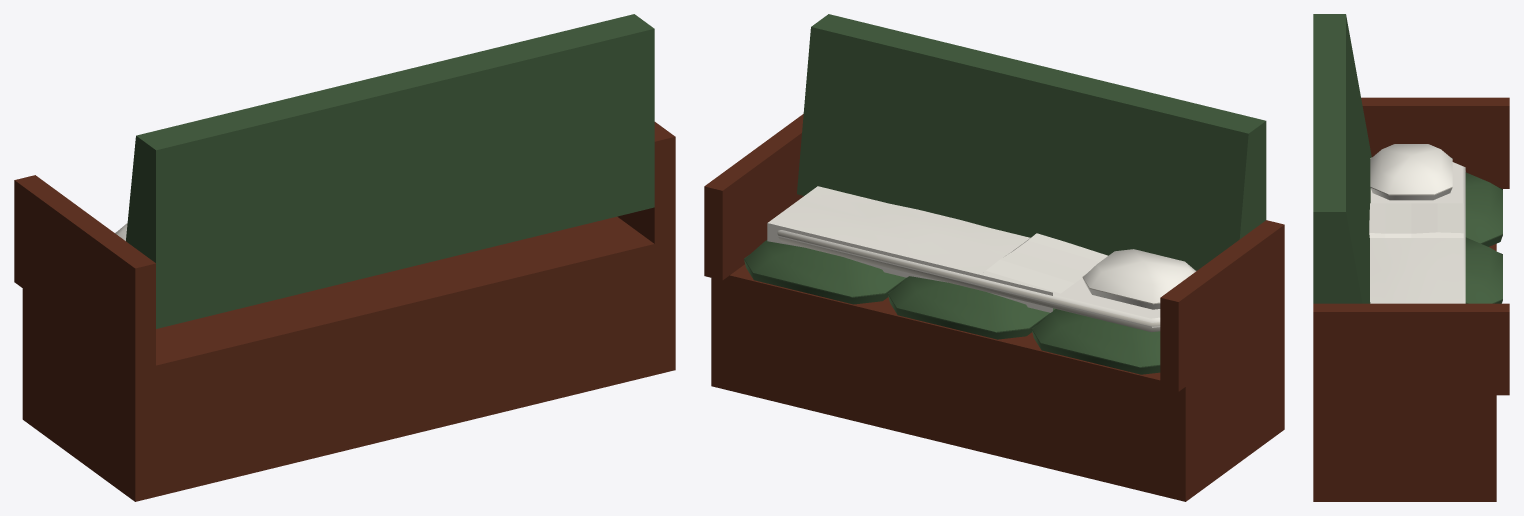
The picture shows the model from 3 angles, left to right: view 1: azimuth 30°, elevation 25°; view 2: azimuth 150°, elevation 25°; view 3: azimuth 270°, elevation 25°; orthographic projection. The views are drawn at different scales.
Visible parts, largest first — view 1: parametric-variant-settee-1st-237653f37a4e7f617051; view 2: parametric-variant-settee-1st-237653f37a4e7f617051; view 3: parametric-variant-settee-1st-237653f37a4e7f617051.
Boxes of the visible parts, x1=… form: parametric-variant-settee-1st-237653f37a4e7f617051: x1=14, y1=14, x2=675, y2=501; parametric-variant-settee-1st-237653f37a4e7f617051: x1=704, y1=14, x2=1284, y2=501; parametric-variant-settee-1st-237653f37a4e7f617051: x1=1313, y1=14, x2=1509, y2=501.
Size of the model in its own units: 1.55 by 0.95 by 0.6.
